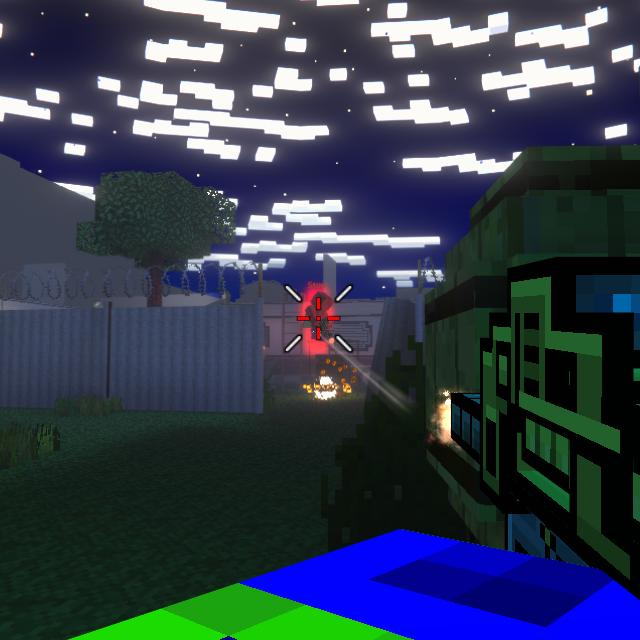Enemy: (302, 293, 332, 342)
